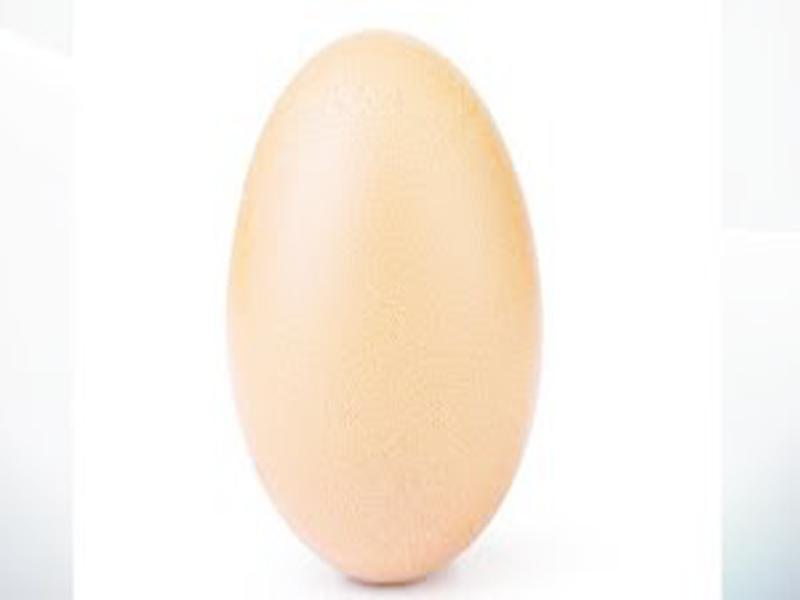Eggs: (227, 32, 541, 582)
